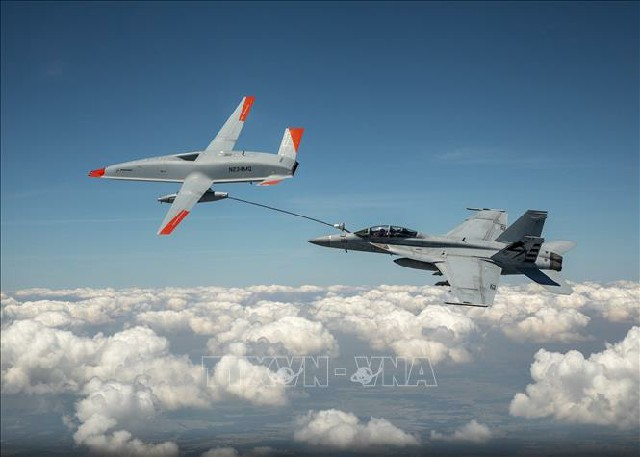maybay_khongnguoilai: (87, 97, 302, 227)
